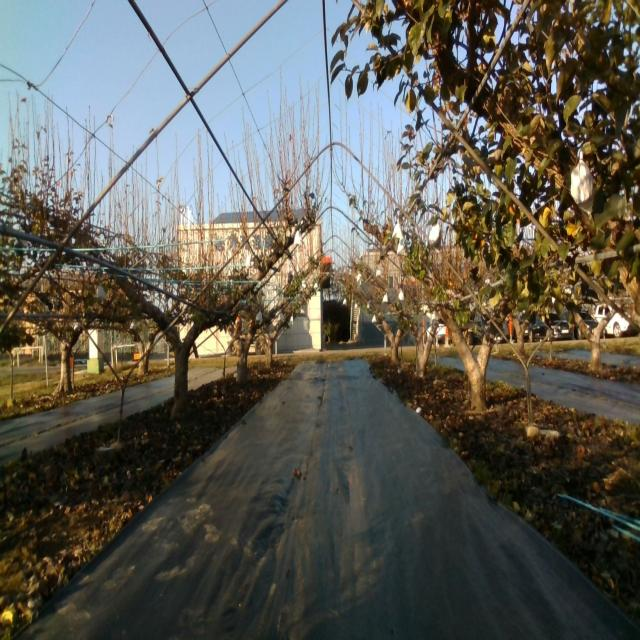pearbags: (568, 158, 592, 212), (429, 223, 442, 250)
